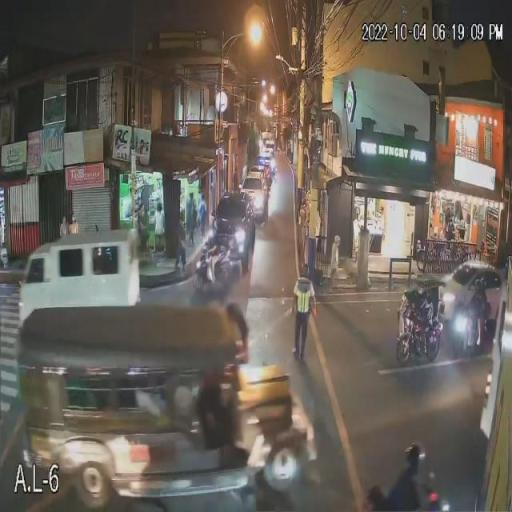helmet: (405, 442, 425, 462)
motorcycle: (395, 308, 441, 367), (192, 246, 235, 296), (450, 310, 486, 363)
rider: (384, 442, 430, 512), (396, 282, 434, 336), (461, 278, 489, 332), (202, 222, 232, 266)
